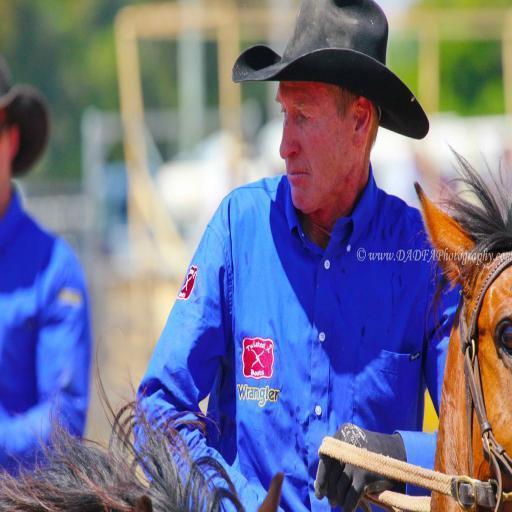horse: (0, 320, 287, 512), (414, 138, 512, 512)
